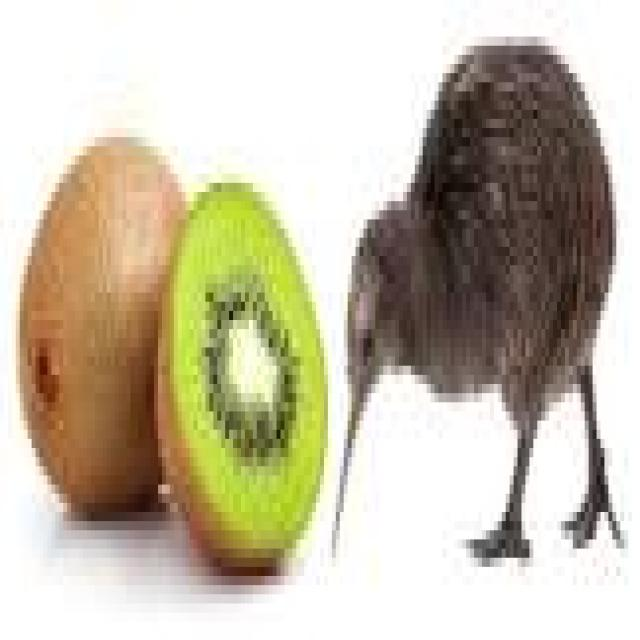kivi: (160, 182, 326, 567), (21, 139, 185, 512)
